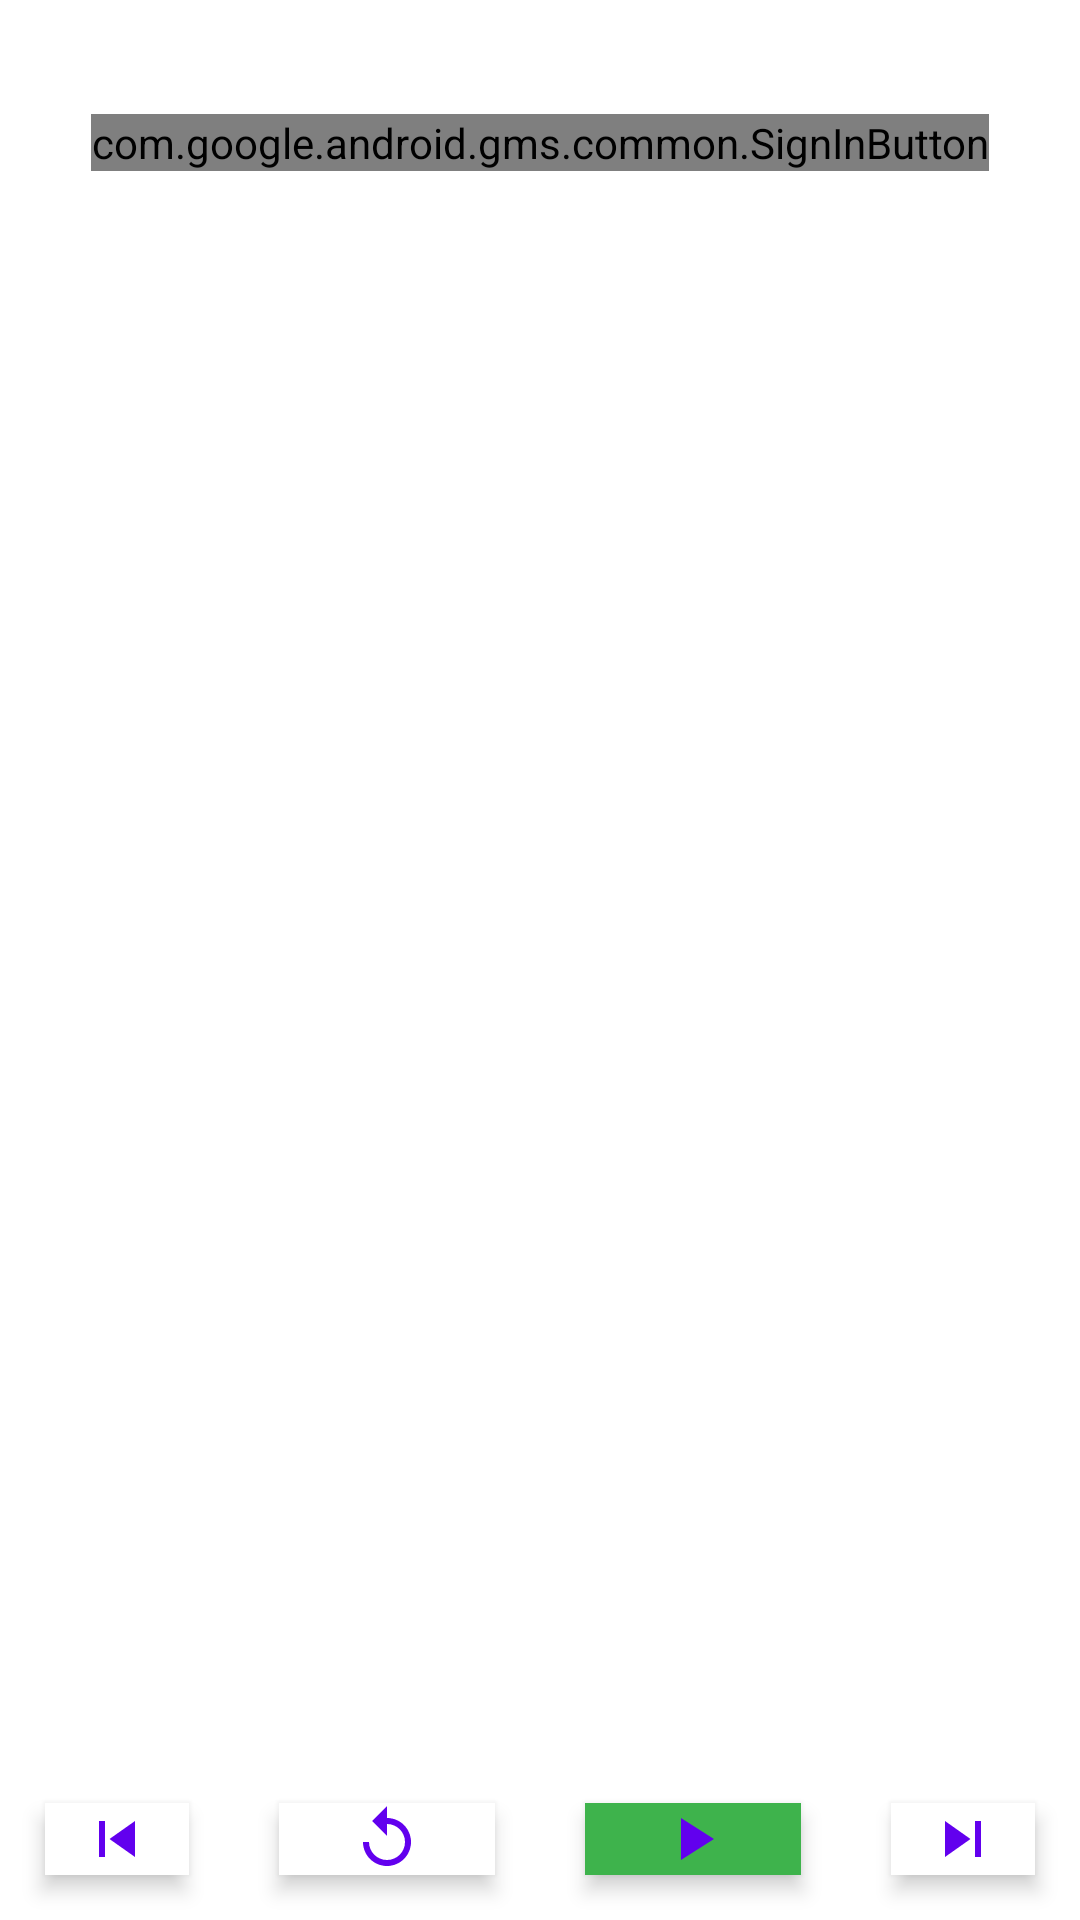

Locate icon controls on the screen. Image size 1080 x 1920, boxes as (x1, y1, x2, y2).
Play: (585, 1803, 801, 1875)
Replay: (363, 1806, 411, 1866)
Skip to next: (945, 1821, 981, 1857)
Skip to previous: (99, 1821, 135, 1857)
